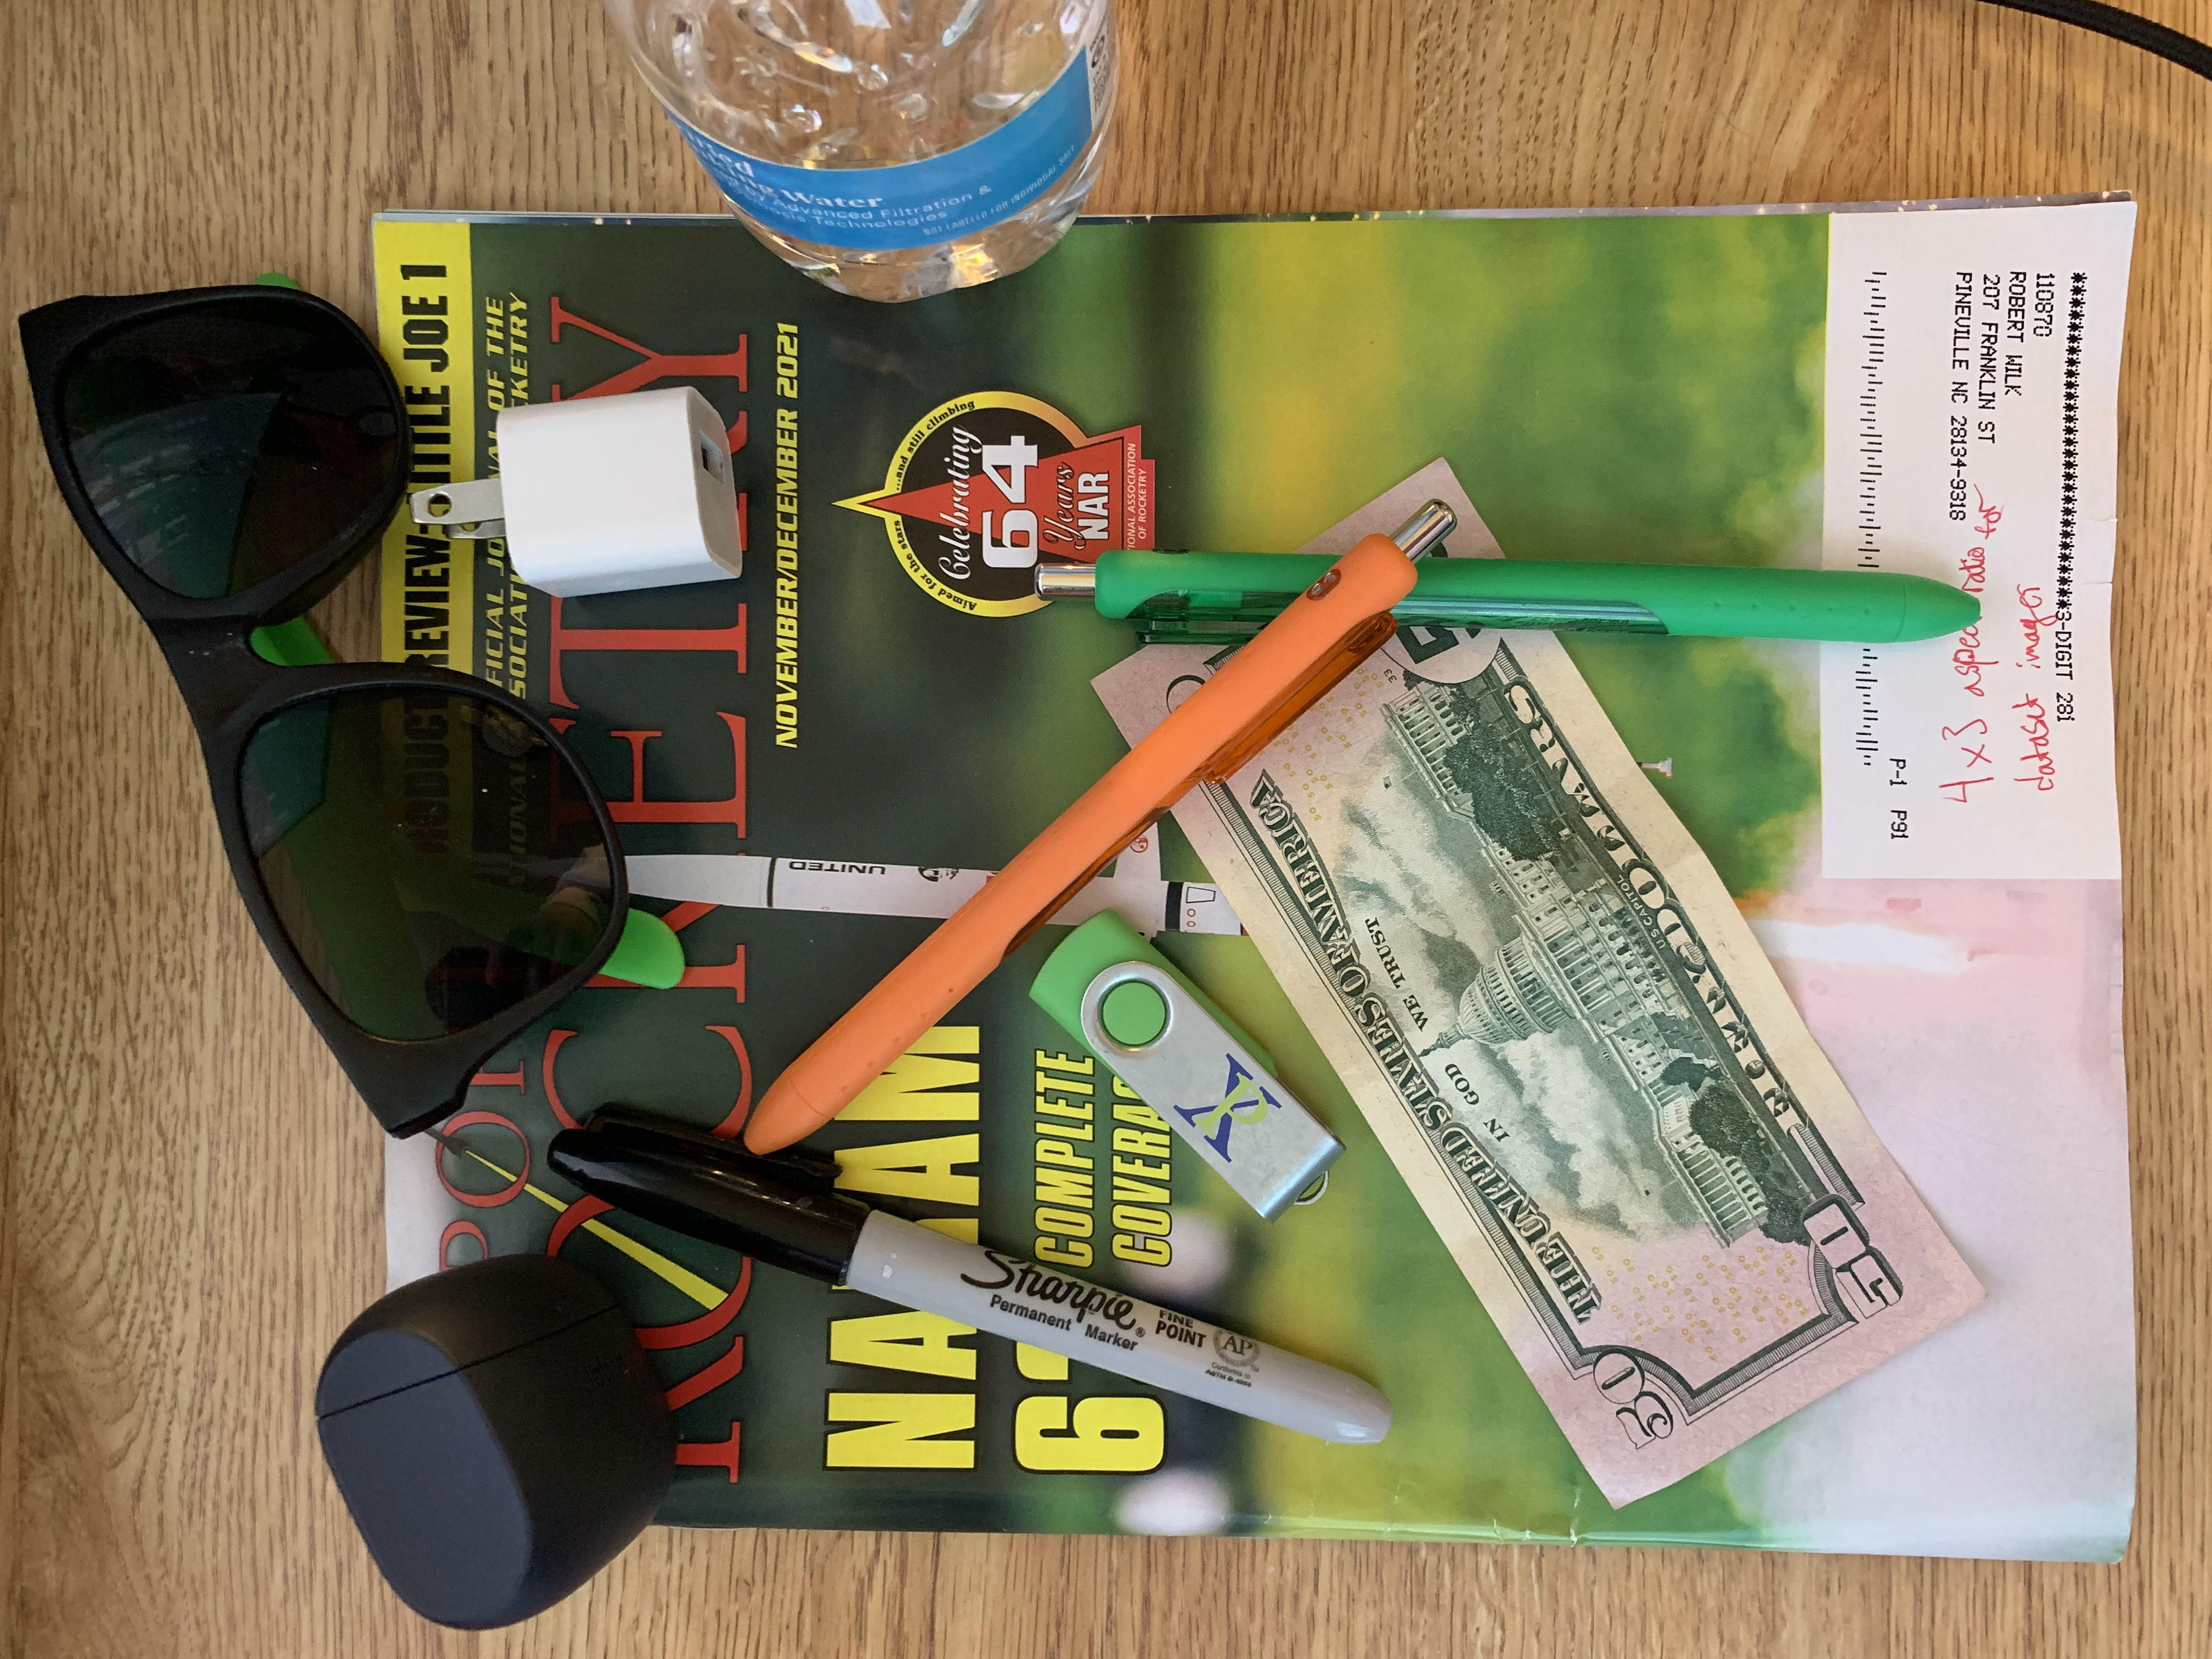FiftyBill: (1087, 457, 2000, 1511)
